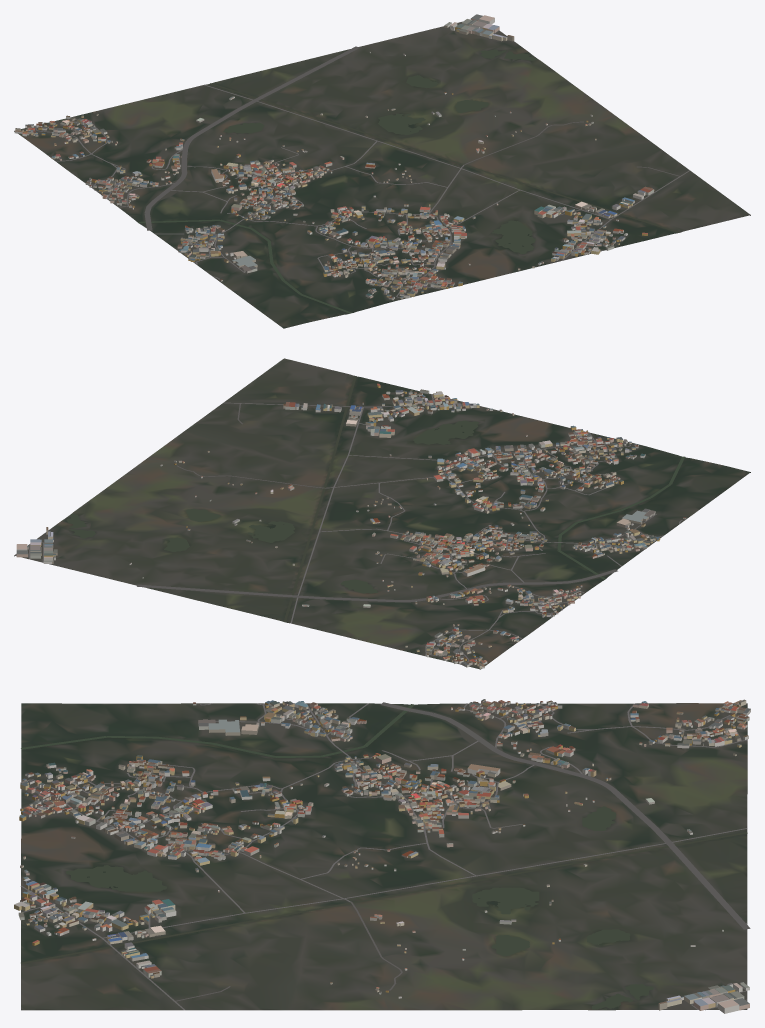
3 views of the same model, one above another, from view 1: azimuth 30°, elevation 25°; view 2: azimuth 150°, elevation 25°; view 3: azimuth 270°, elevation 25° (orthographic). The views are drawn at different scales.
Parts seen in each view (by area): view 1: ground, buildings, roads, water; view 2: ground, buildings, roads, water; view 3: ground, buildings, water, roads.
Boxes of the visible parts, left/top/right/bottom form: ground: left=14, top=21, right=750, bottom=328; buildings: left=14, top=14, right=654, bottom=300; roads: left=35, top=30, right=690, bottom=297; water: left=138, top=49, right=679, bottom=313; ground: left=14, top=358, right=750, bottom=669; buildings: left=16, top=383, right=686, bottom=668; roads: left=15, top=394, right=682, bottom=664; water: left=66, top=375, right=684, bottom=621; ground: left=21, top=703, right=747, bottom=1010; buildings: left=14, top=699, right=750, bottom=1013; water: left=21, top=704, right=747, bottom=1009; roads: left=20, top=702, right=750, bottom=1010.
Bounding box in the file's own units: 1425 × 19.58 × 1423.
